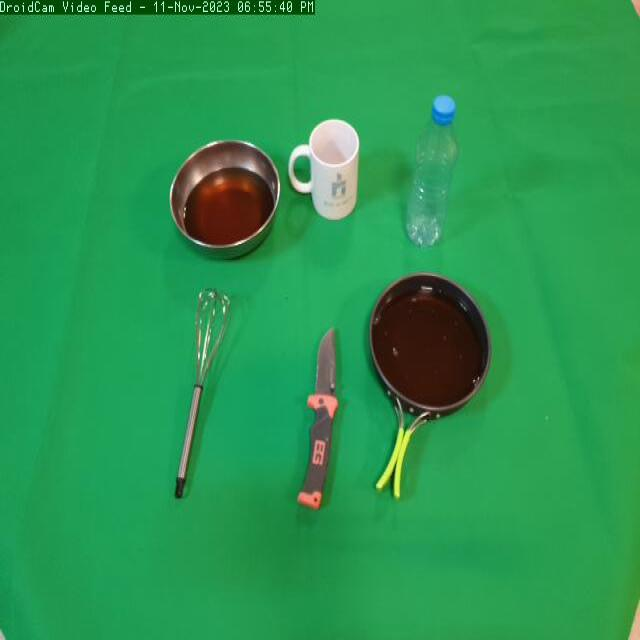bottle: (398, 85, 466, 265)
cup: (285, 113, 362, 227)
fullbowl: (164, 137, 282, 270)
fullpan: (361, 264, 498, 506)
knife: (288, 323, 356, 519)
whisk: (154, 287, 244, 514)
